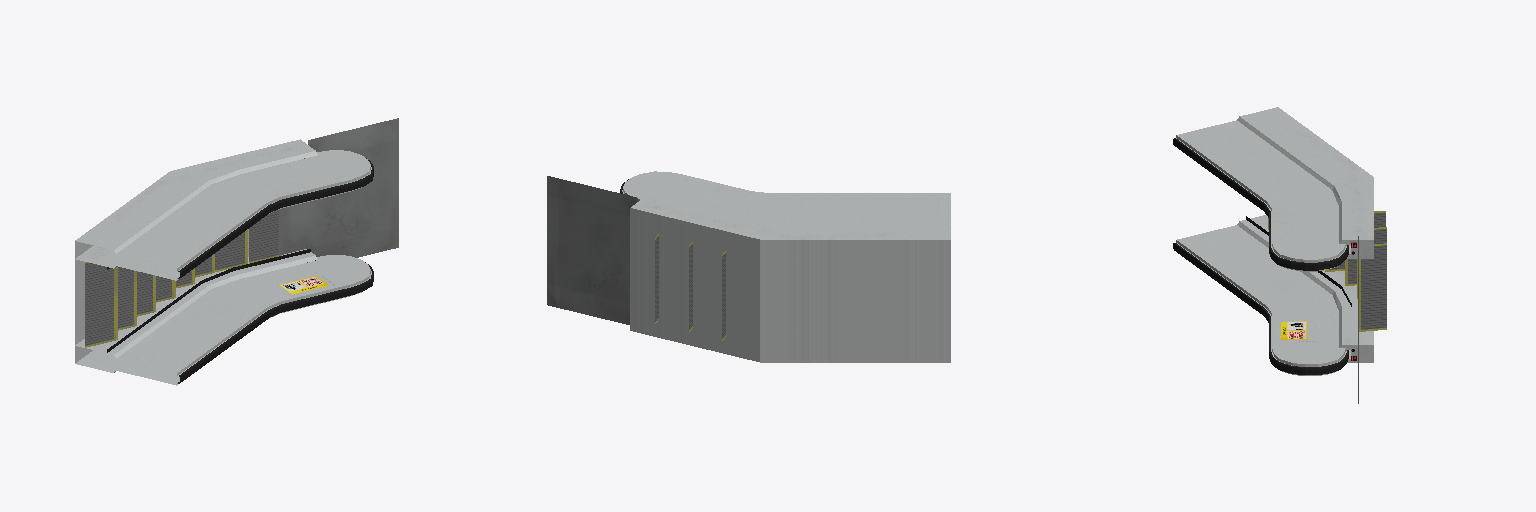
3 views of the same model, side by side, from view 1: azimuth 30°, elevation 25°; view 2: azimuth 150°, elevation 25°; view 3: azimuth 270°, elevation 25° (orthographic).
Parts seen in each view (by area): view 1: EscalatorStart; view 2: EscalatorStart; view 3: EscalatorStart.
Boxes of the visible parts, box(x1,y1,x2,y2) form: EscalatorStart: box(75, 118, 398, 385); EscalatorStart: box(547, 171, 950, 362); EscalatorStart: box(1173, 107, 1386, 403).
Size of the model in its own units: 4.41 by 1.5 by 2.24.
Materials: 1 (1 with a texture image).